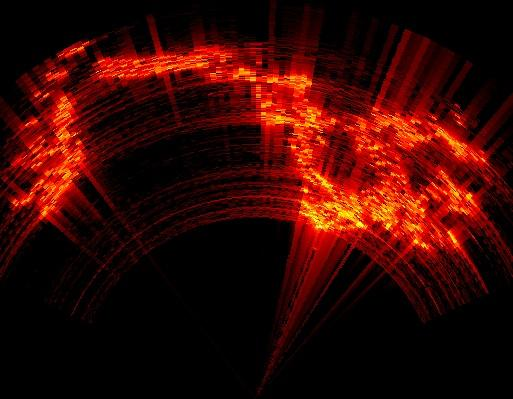shipwreck: (93, 47, 488, 248), (11, 72, 82, 215)
